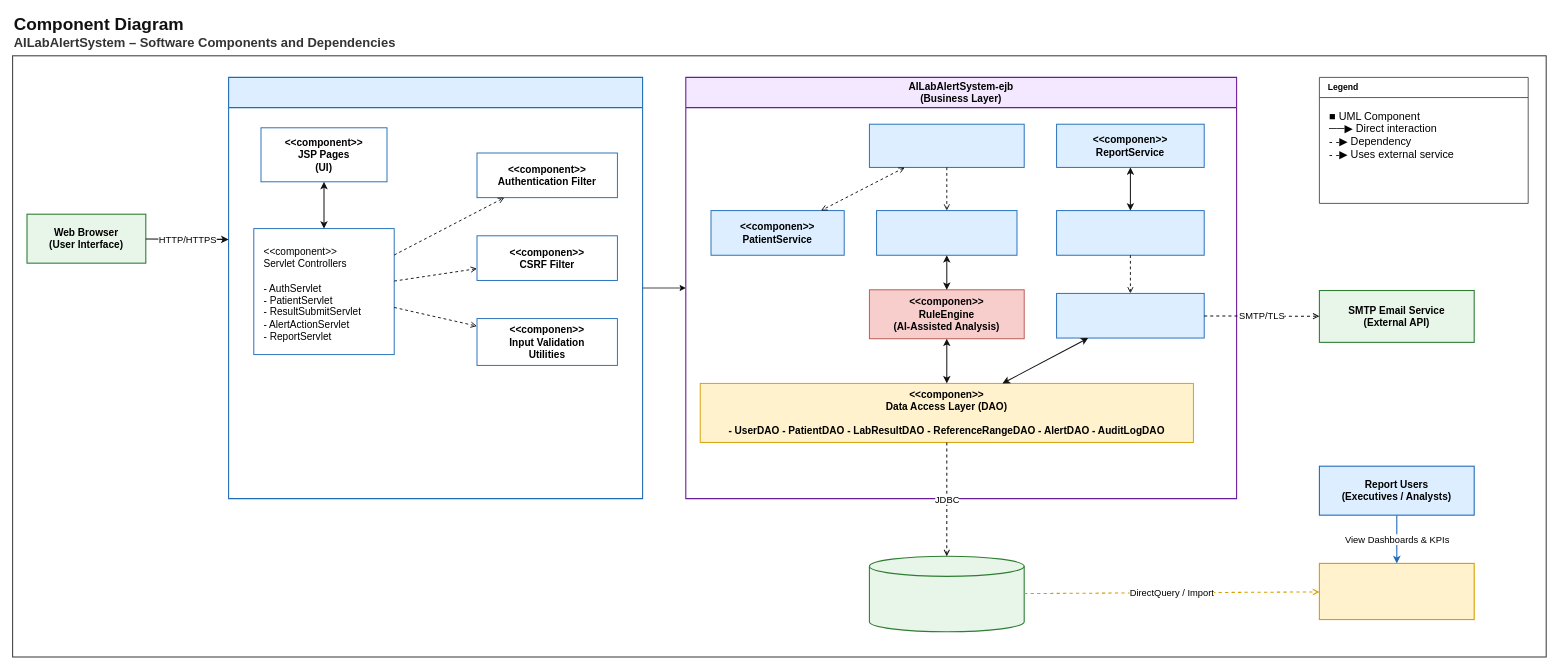
Image size: 1560x670. Some labels were removed from this diagram. Here are the shapes that lost their labels. From the top down, the box of each, then its label:
(869, 123, 1024, 168): <<componen>> AuthenticationService
(876, 210, 1017, 255): <<component>> ResultService
(1056, 210, 1204, 255): <<component>> AlertService
(228, 77, 643, 499): AILabAlertSystem-war (Web Module – Presentation Layer)
(1056, 293, 1204, 338): <<componen>> EmailService
(869, 555, 1024, 632): MySQL Database (ailabalertsystem_db)
(1319, 563, 1474, 620): <<component>> Microsoft Power BI (Dashboards & KPIs)
